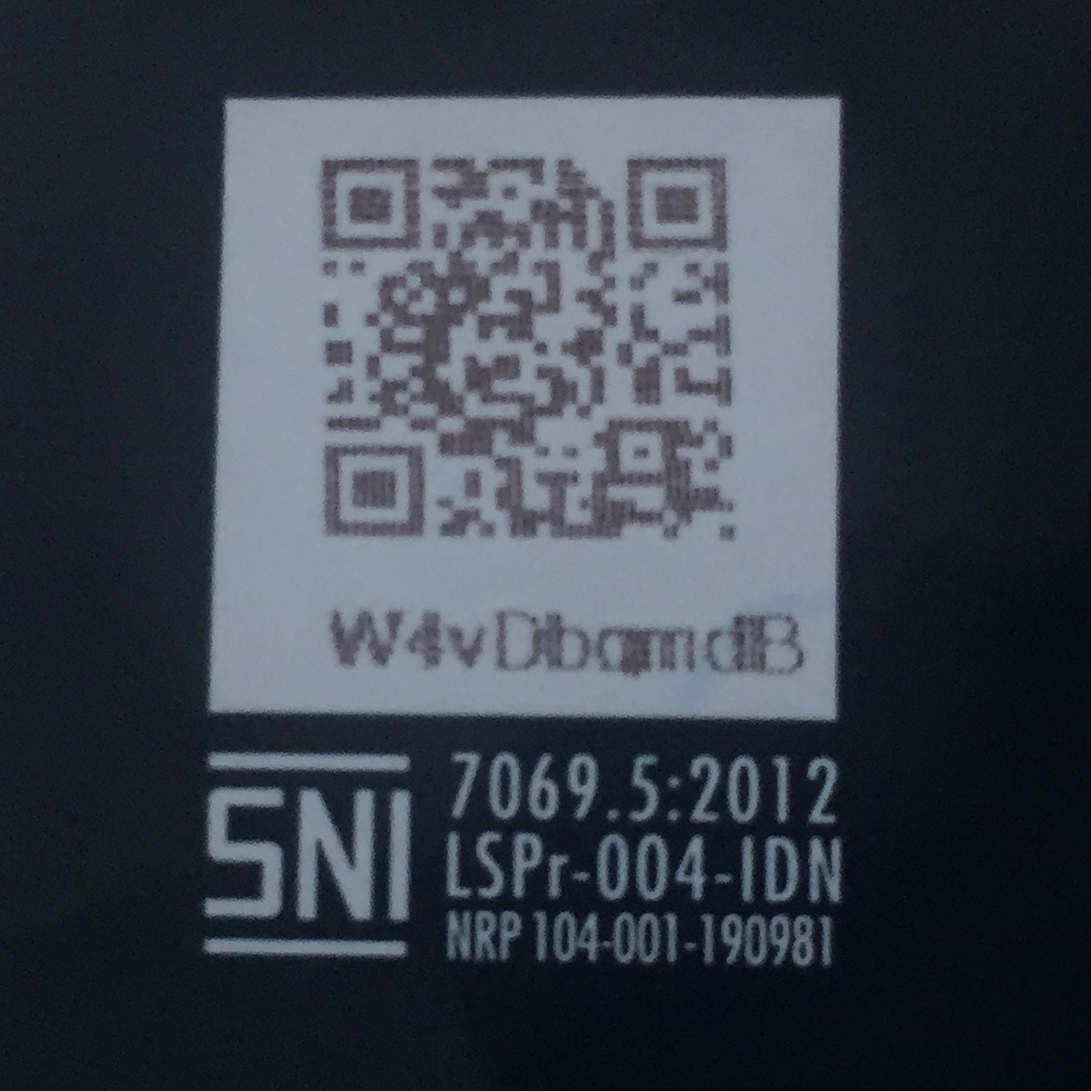QR-CODE: (299, 135, 771, 559)
